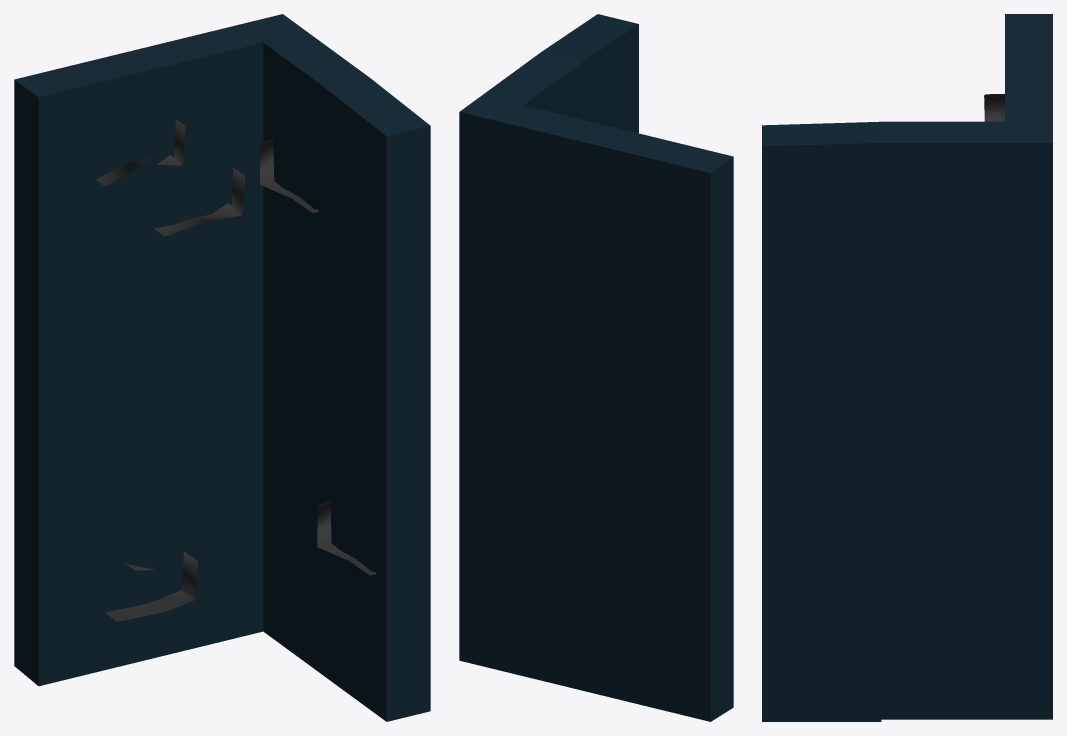
The model's file is wall No.4.fbx.
The picture shows the model from 3 angles, left to right: view 1: azimuth 30°, elevation 25°; view 2: azimuth 150°, elevation 25°; view 3: azimuth 270°, elevation 25°; orthographic projection. The views are drawn at different scales.
Parts seen in each view (by area): view 1: 立方体.029; view 2: 立方体.029; view 3: 立方体.029.
Boxes of the visible parts, box(x1,y1,x2,y2) form: 立方体.029: box(14, 14, 430, 721); 立方体.029: box(459, 14, 733, 721); 立方体.029: box(762, 14, 1052, 721).
Bounding box in the file's own units: 273 × 573 × 261.
